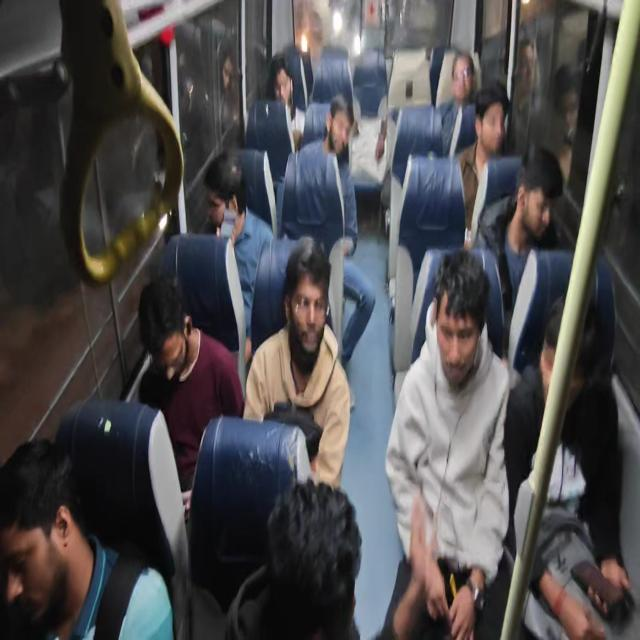person: (258, 467, 358, 640), (0, 430, 81, 611), (534, 268, 602, 427), (432, 240, 490, 382), (133, 275, 202, 393), (283, 230, 334, 368), (507, 143, 561, 248), (200, 156, 245, 250), (474, 83, 509, 166), (263, 54, 299, 110), (327, 94, 354, 158), (452, 51, 476, 108)
